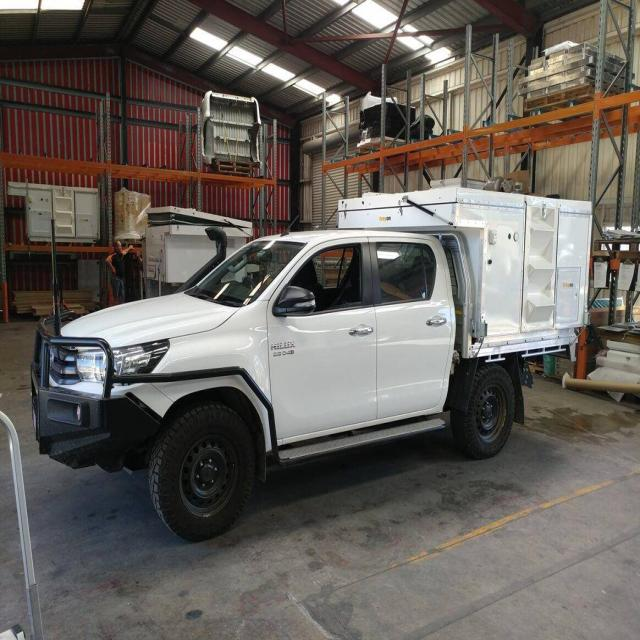light_vehicle: (22, 161, 606, 550)
